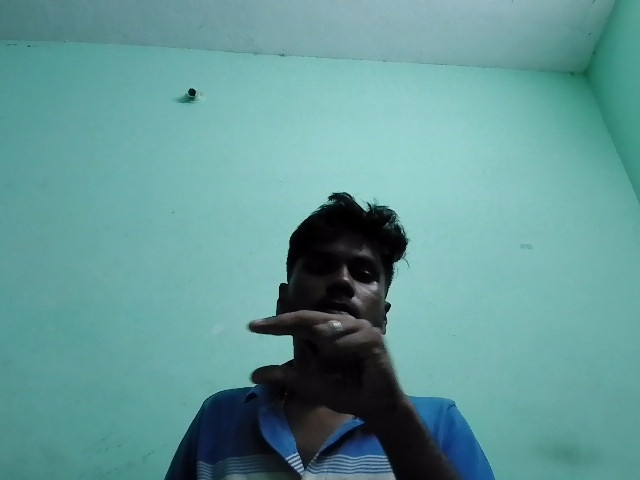No: (235, 298, 445, 428)
